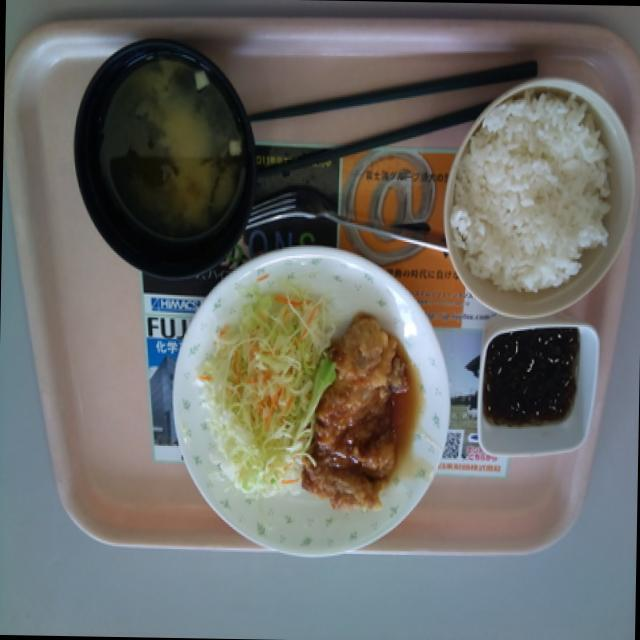Green Salad: (197, 300, 319, 490)
Rice: (461, 98, 606, 296)
